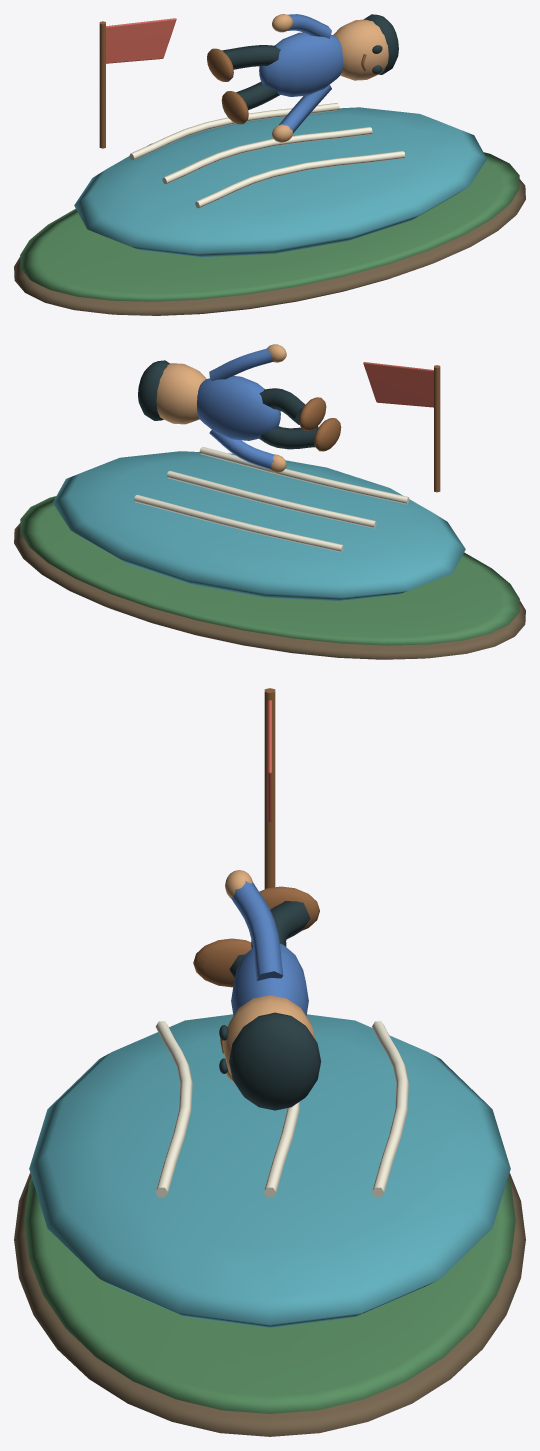
File: swimming.glb
3 views of the same model, one above another, from view 1: azimuth 30°, elevation 25°; view 2: azimuth 150°, elevation 25°; view 3: azimuth 270°, elevation 25° (orthographic). The views are drawn at different scales.
Parts seen in each view (by area): view 1: swimming_surface_07, swimming_surface_01, swimming_surface_00, swimming_surface_06, swimming_surface_08, swimming_surface_04, swimming_surface_05, swimming_surface_03, swimming_surface_02; view 2: swimming_surface_07, swimming_surface_01, swimming_surface_00, swimming_surface_06, swimming_surface_08, swimming_surface_05, swimming_surface_04, swimming_surface_03, swimming_surface_02; view 3: swimming_surface_07, swimming_surface_01, swimming_surface_00, swimming_surface_05, swimming_surface_08, swimming_surface_06, swimming_surface_02, swimming_surface_04.
Part boxes in pixels (x1,y1,x2,y2): swimming_surface_07: (74, 107, 486, 257); swimming_surface_01: (20, 152, 519, 301); swimming_surface_00: (14, 179, 525, 315); swimming_surface_06: (259, 14, 342, 133); swimming_surface_08: (129, 103, 405, 208); swimming_surface_04: (272, 14, 388, 142); swimming_surface_05: (222, 14, 398, 109); swimming_surface_03: (106, 18, 176, 63); swimming_surface_02: (99, 21, 366, 148); swimming_surface_07: (53, 451, 465, 600); swimming_surface_01: (20, 496, 519, 645); swimming_surface_00: (14, 523, 525, 659); swimming_surface_06: (197, 348, 280, 468); swimming_surface_08: (134, 447, 409, 552); swimming_surface_05: (138, 360, 318, 449); swimming_surface_04: (156, 344, 286, 472); swimming_surface_03: (363, 362, 433, 407); swimming_surface_02: (299, 365, 440, 492); swimming_surface_07: (29, 1014, 510, 1327); swimming_surface_01: (24, 1177, 515, 1413); swimming_surface_00: (14, 1173, 525, 1436); swimming_surface_05: (219, 901, 320, 1110); swimming_surface_08: (155, 1021, 408, 1197); swimming_surface_06: (230, 881, 308, 1015); swimming_surface_02: (193, 688, 319, 1053); swimming_surface_04: (223, 870, 315, 1081).
Bounding box in the file's own units: 4.56 × 2.36 × 2.5.
